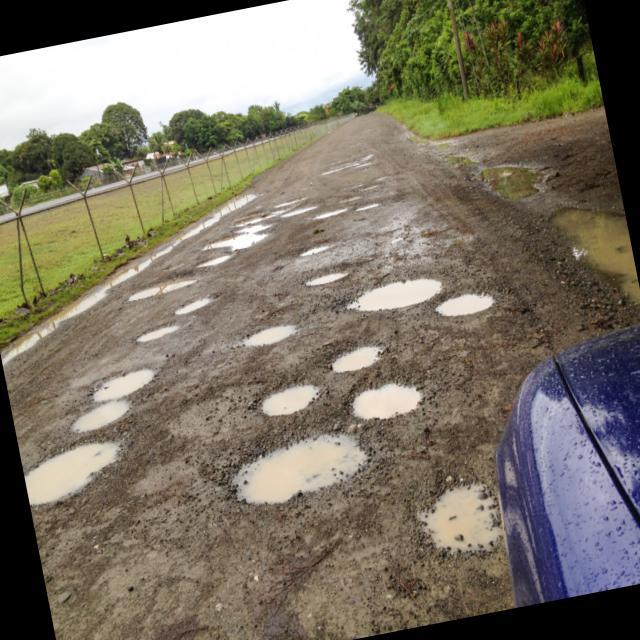Pothole: (220, 416, 378, 526), (408, 466, 517, 568), (20, 430, 130, 513), (337, 259, 454, 322), (338, 358, 434, 432), (242, 373, 334, 429), (76, 352, 163, 410), (63, 394, 138, 446), (432, 277, 500, 324), (122, 266, 200, 306), (326, 334, 388, 378), (240, 318, 306, 351), (170, 282, 223, 322), (296, 262, 349, 296), (215, 227, 269, 260), (130, 320, 182, 352), (195, 242, 233, 278), (294, 231, 334, 264), (316, 198, 354, 232), (235, 208, 277, 232), (280, 200, 318, 224), (356, 197, 384, 216)
